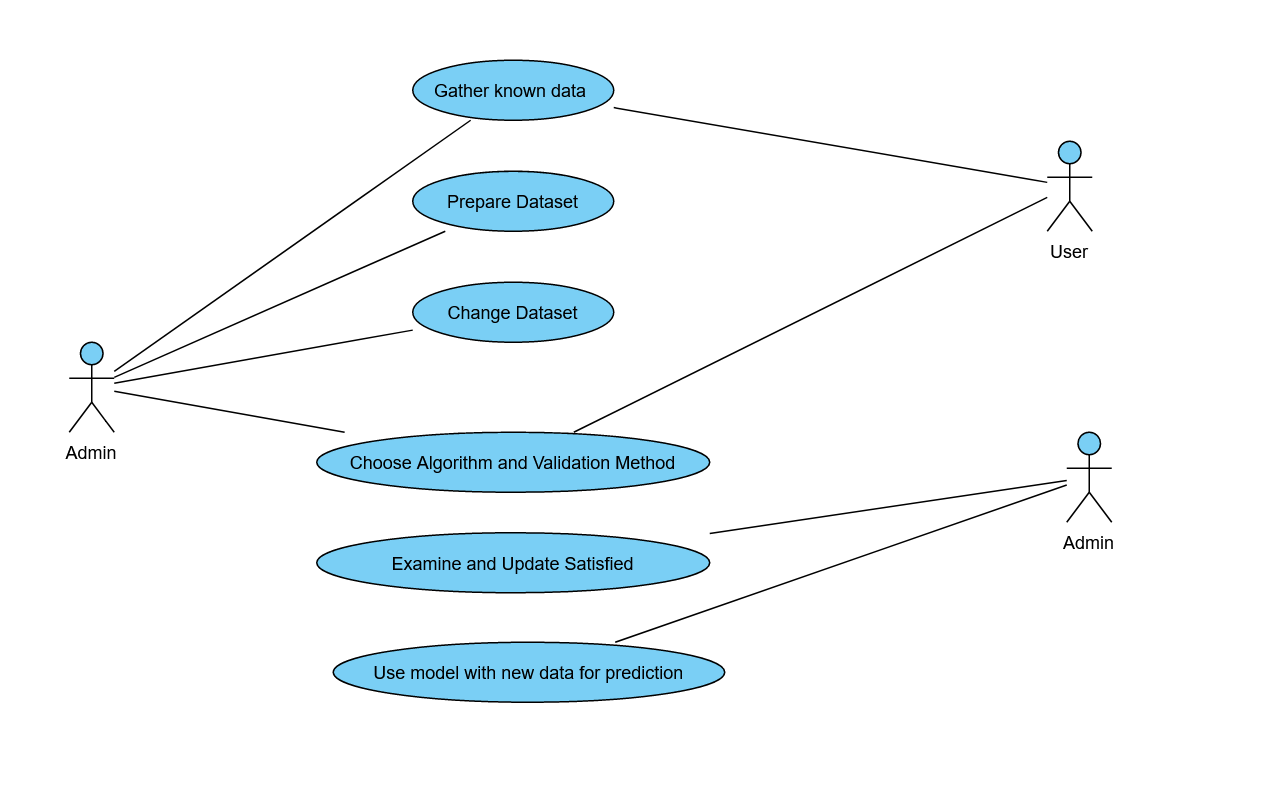actor: (65, 337, 124, 439), (1062, 428, 1117, 528), (1043, 137, 1097, 234)
association: (582, 193, 1049, 430), (115, 120, 473, 372), (618, 481, 1069, 643), (117, 230, 445, 377), (615, 106, 1047, 189), (712, 478, 1070, 536), (115, 329, 410, 385), (113, 389, 346, 437)
text: (347, 450, 681, 473), (374, 659, 687, 681), (385, 550, 652, 575), (434, 78, 586, 103), (443, 190, 579, 215), (444, 300, 583, 323), (59, 442, 125, 468), (1043, 240, 1099, 263), (1063, 531, 1121, 553)
use_case: (329, 639, 728, 708), (313, 428, 715, 496), (311, 530, 711, 596), (409, 278, 617, 346), (410, 167, 616, 235), (410, 57, 616, 124)
